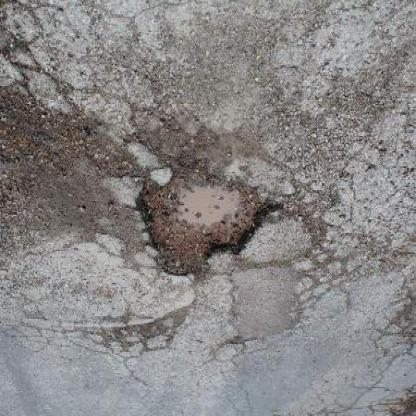pothole: (132, 161, 282, 286)
